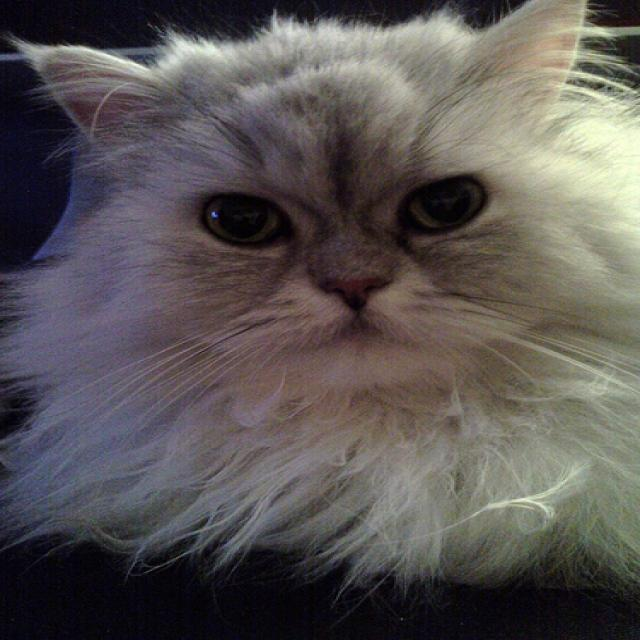Persian: (15, 0, 584, 383)
